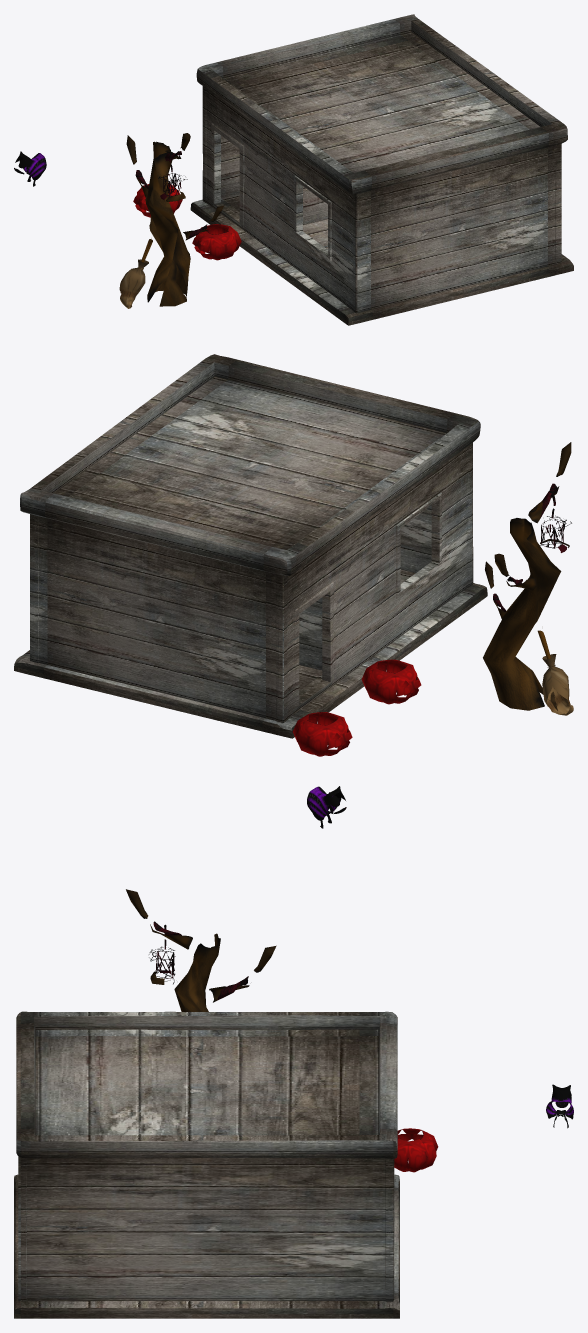
Rendered from casa1.obj.
3 views of the same model, one above another, from view 1: azimuth 30°, elevation 25°; view 2: azimuth 150°, elevation 25°; view 3: azimuth 270°, elevation 25° (orthographic). The views are drawn at different scales.
Visible parts, largest first — view 1: Cabin, Tree, Pampkin001, Broom, Lantern, Cat, Pampkin; view 2: Cabin, Tree, Pampkin, Pampkin001, Broom, meshId11_name, Tree_001, Lantern; view 3: Cabin, Tree, Pampkin, Tree_001, Tree_002, Lantern.
Part boxes in pixels (x1,y1,x2,y2): Cabin: [190, 14, 573, 325]; Tree: [145, 141, 190, 306]; Pampkin001: [192, 224, 241, 260]; Broom: [119, 238, 152, 308]; Lantern: [158, 152, 187, 201]; Cat: [14, 155, 46, 186]; Pampkin: [133, 184, 182, 217]; Cabin: [14, 354, 487, 738]; Tree: [483, 518, 561, 710]; Pampkin: [292, 712, 352, 756]; Pampkin001: [361, 659, 421, 704]; Broom: [537, 630, 573, 715]; meshId11_name: [307, 789, 345, 828]; Tree_001: [528, 442, 571, 523]; Lantern: [540, 493, 571, 552]; Cabin: [14, 1011, 399, 1318]; Tree: [174, 933, 220, 1011]; Pampkin: [394, 1128, 438, 1172]; Tree_001: [126, 889, 192, 949]; Tree_002: [209, 945, 276, 1002]; Lantern: [149, 924, 175, 984].
Size of the model in its own units: 309 by 173 by 329.
3 materials, 3 textured.
